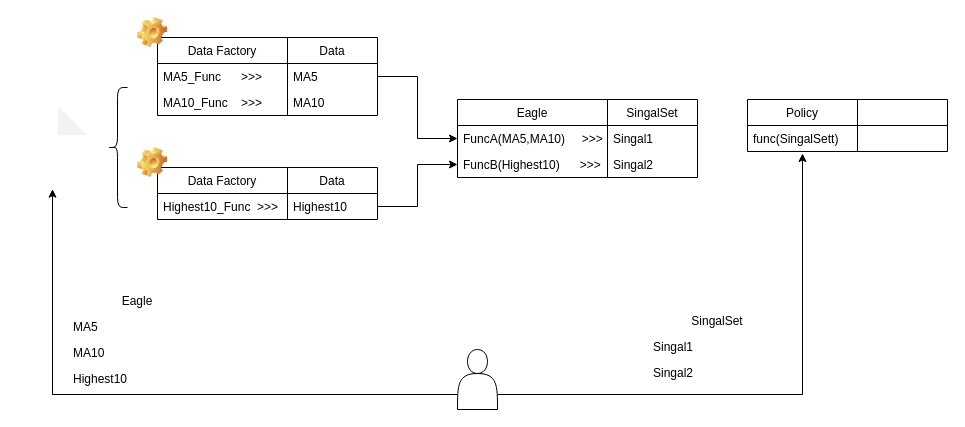
The diagram is 965 pixels wide and 427 high, and some of its shapes have lost their labels. Each missing label, with the centre of its shape:
PreOrder: [902,125]
日线: [52,147]
